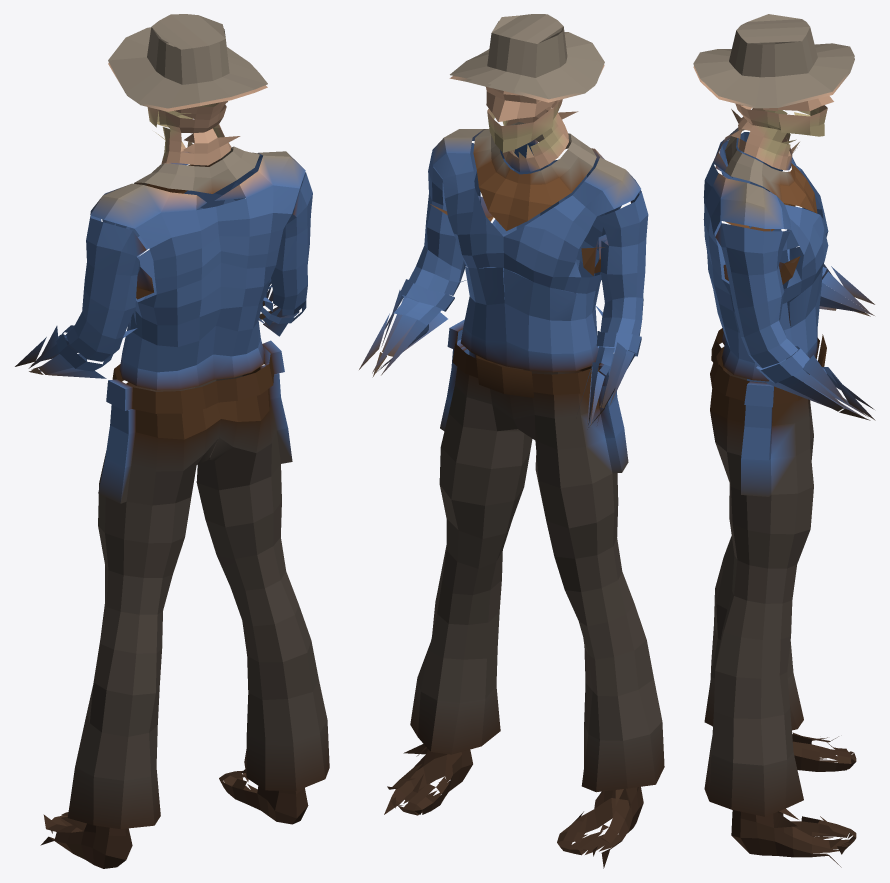
Rendered from man_2_idle.fbx.
The picture shows the model from 3 angles, left to right: view 1: azimuth 30°, elevation 25°; view 2: azimuth 150°, elevation 25°; view 3: azimuth 270°, elevation 25°; orthographic projection. The views are drawn at different scales.
Visible parts, largest first — view 1: cowboy; view 2: cowboy; view 3: cowboy.
Part boxes in pixels (x1,y1,x2,y2): cowboy: [15, 14, 329, 868]; cowboy: [359, 14, 664, 868]; cowboy: [693, 14, 875, 867].
Size of the model in its own units: 0.328 by 1.01 by 0.212.
